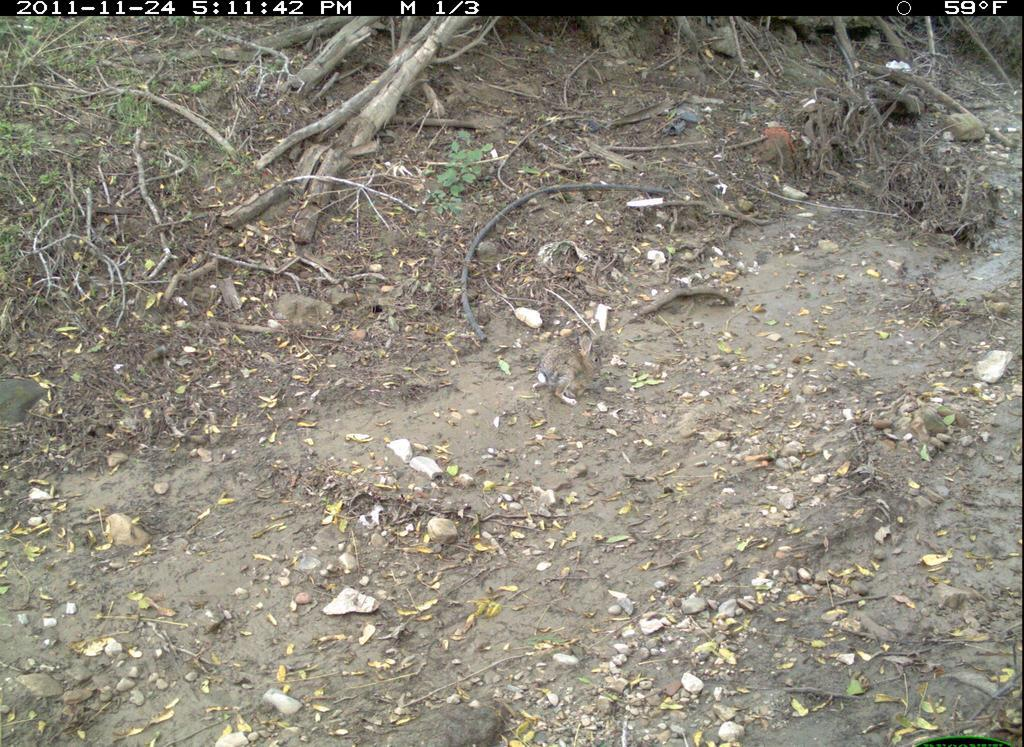rabbit: (528, 336, 609, 410)
